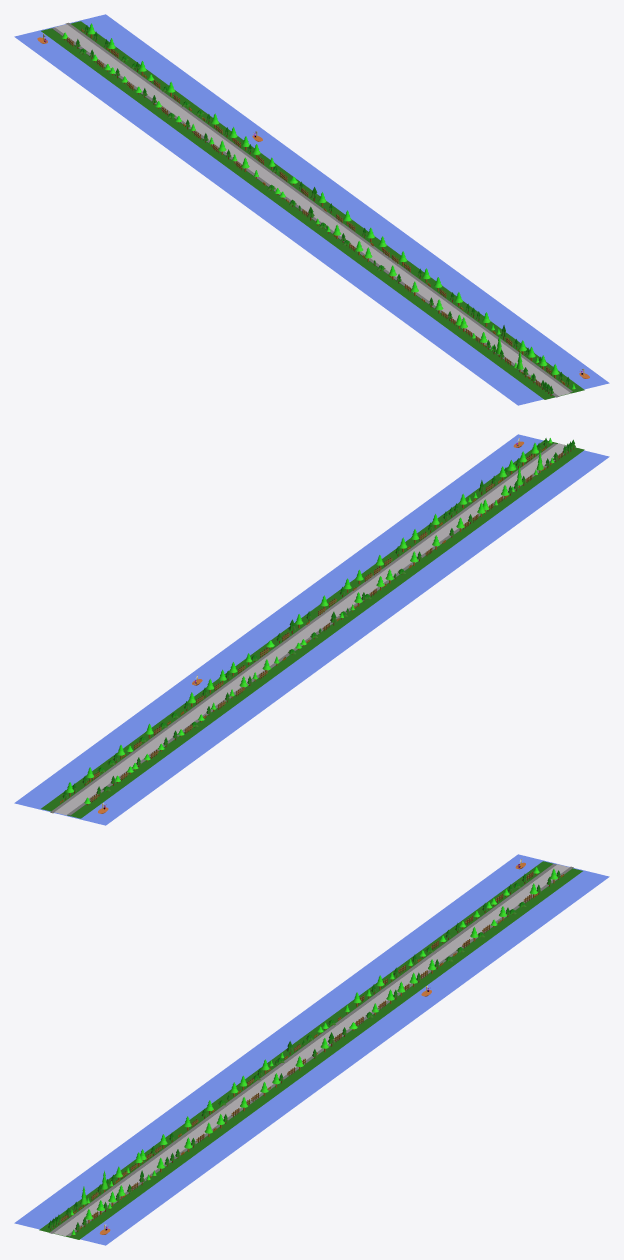
Rendered from camino2.0.fbx.
3 views of the same model, one above another, from view 1: azimuth 30°, elevation 25°; view 2: azimuth 150°, elevation 25°; view 3: azimuth 330°, elevation 25° (orthographic).
Visible parts, largest first — view 1: agua, pasto, calle, banqueta izrd.001, banqueta izrd; view 2: agua, pasto, calle, banqueta izrd.001, banqueta izrd; view 3: agua, pasto, calle, banqueta izrd, banqueta izrd.001.
Boxes of the visible parts, bbox=[...] form: agua: bbox=[14, 14, 609, 405]; pasto: bbox=[41, 21, 584, 399]; calle: bbox=[55, 24, 570, 395]; banqueta izrd.001: bbox=[65, 22, 572, 392]; banqueta izrd: bbox=[52, 27, 559, 397]; agua: bbox=[14, 434, 609, 825]; pasto: bbox=[41, 440, 584, 818]; calle: bbox=[55, 443, 566, 815]; banqueta izrd.001: bbox=[50, 443, 556, 813]; banqueta izrd: bbox=[67, 451, 567, 815]; agua: bbox=[14, 854, 609, 1245]; pasto: bbox=[39, 861, 582, 1239]; calle: bbox=[54, 864, 569, 1236]; banqueta izrd: bbox=[49, 864, 556, 1233]; banqueta izrd.001: bbox=[67, 866, 573, 1236].
Bounding box in the file's own units: 5895 × 1673 × 56225.
